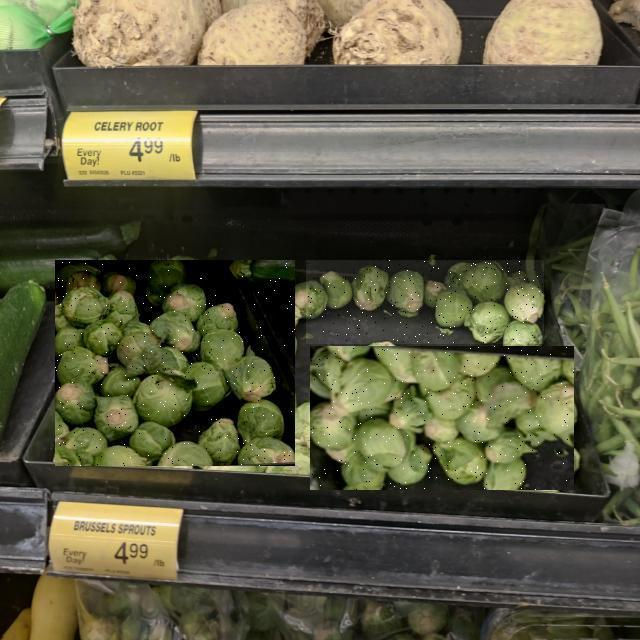Brussel Sprouts: (55, 260, 295, 466), (310, 346, 574, 490), (306, 260, 544, 344)
